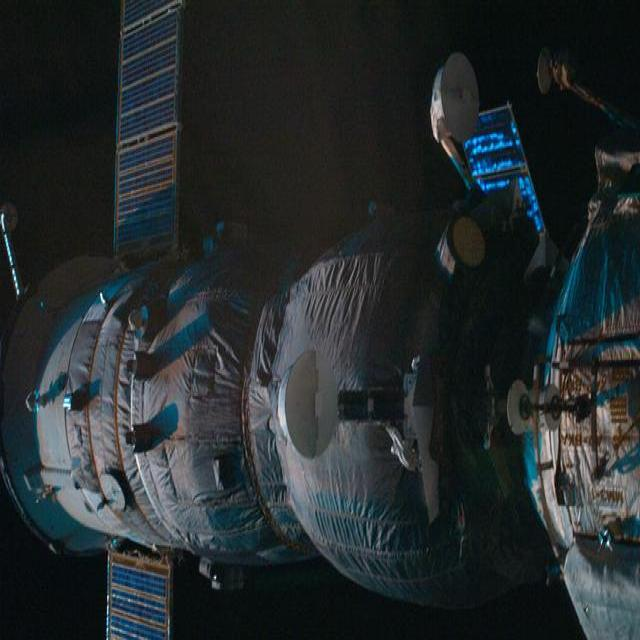satellite: (0, 0, 640, 638)
